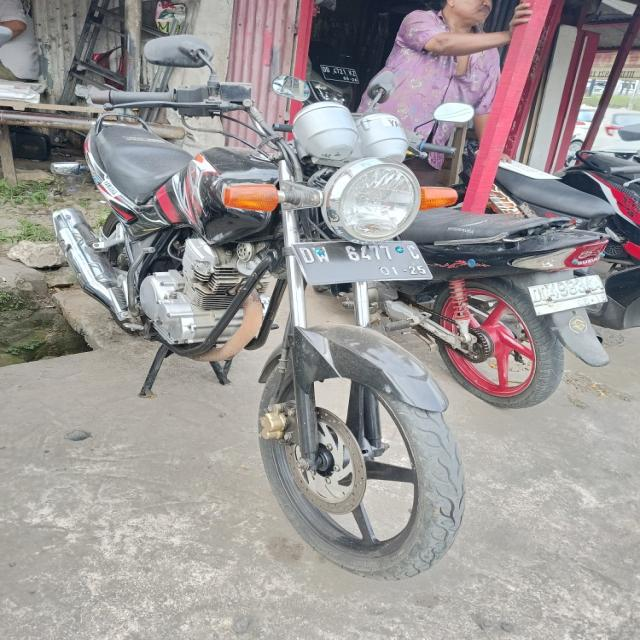plates: (294, 235, 440, 283)
